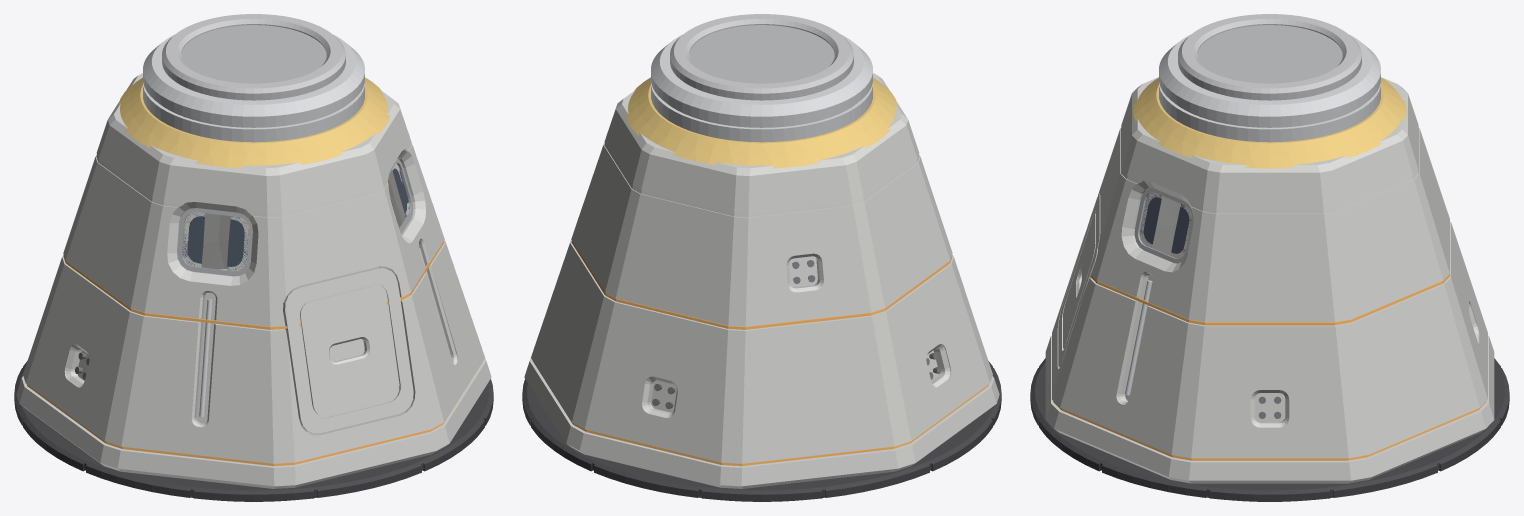
The model's file is ax_cmd_02_kestrel_capsule.glb.
3 renders of one model, left to right at view 1: azimuth 30°, elevation 25°; view 2: azimuth 150°, elevation 25°; view 3: azimuth 270°, elevation 25°, orthographic.
Visible parts, largest first — view 1: shell, hatch_door_1, nose_cap, heat_shield, mli_crown, docking_hatch, docking_port, orange_stripes, window_glass, window_frames, handrails; view 2: shell, nose_cap, heat_shield, mli_crown, docking_hatch, docking_port, orange_stripes, rcs_nozzles; view 3: shell, nose_cap, heat_shield, mli_crown, docking_hatch, docking_port, orange_stripes, hatch_door_1, window_glass, window_frames, handrails.
Part boxes in pixels (x1=…): shell: x1=16, y1=73, x2=491, y2=488; hatch_door_1: x1=283, y1=266, x2=413, y2=433; nose_cap: x1=143, y1=34, x2=364, y2=142; heat_shield: x1=14, y1=361, x2=493, y2=501; mli_crown: x1=118, y1=77, x2=390, y2=168; docking_hatch: x1=181, y1=25, x2=326, y2=83; docking_port: x1=162, y1=14, x2=345, y2=100; orange_stripes: x1=27, y1=241, x2=482, y2=465; window_glass: x1=182, y1=168, x2=409, y2=271; window_frames: x1=177, y1=158, x2=413, y2=276; handrails: x1=199, y1=248, x2=449, y2=416; shell: x1=524, y1=73, x2=999, y2=488; nose_cap: x1=651, y1=34, x2=872, y2=142; heat_shield: x1=522, y1=361, x2=1001, y2=501; mli_crown: x1=625, y1=77, x2=897, y2=168; docking_hatch: x1=689, y1=25, x2=834, y2=83; docking_port: x1=670, y1=14, x2=853, y2=100; orange_stripes: x1=533, y1=241, x2=988, y2=465; rcs_nozzles: x1=652, y1=260, x2=940, y2=409; shell: x1=1045, y1=77, x2=1494, y2=483; nose_cap: x1=1159, y1=34, x2=1380, y2=142; heat_shield: x1=1030, y1=358, x2=1509, y2=501; mli_crown: x1=1133, y1=77, x2=1406, y2=168; docking_hatch: x1=1197, y1=25, x2=1342, y2=83; docking_port: x1=1178, y1=14, x2=1361, y2=100; orange_stripes: x1=1053, y1=274, x2=1486, y2=460; hatch_door_1: x1=1058, y1=194, x2=1100, y2=367; window_glass: x1=1140, y1=193, x2=1191, y2=253; window_frames: x1=1134, y1=188, x2=1193, y2=263; handrails: x1=1125, y1=280, x2=1152, y2=395.
Bounding box in the file's own units: 2.5 × 2.18 × 2.5.
